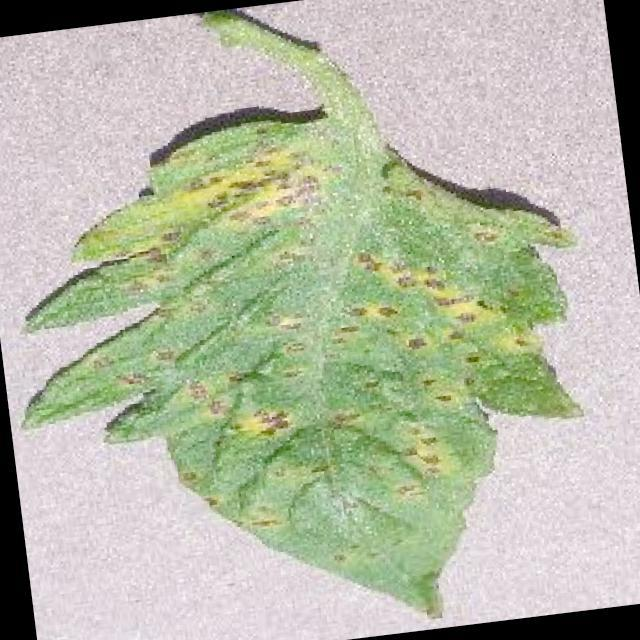Tomato Septoria spot leaf: (0, 84, 619, 640)
